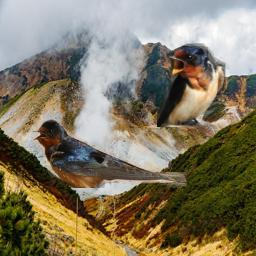Swallow: (33, 118, 187, 188), (157, 43, 226, 127)
